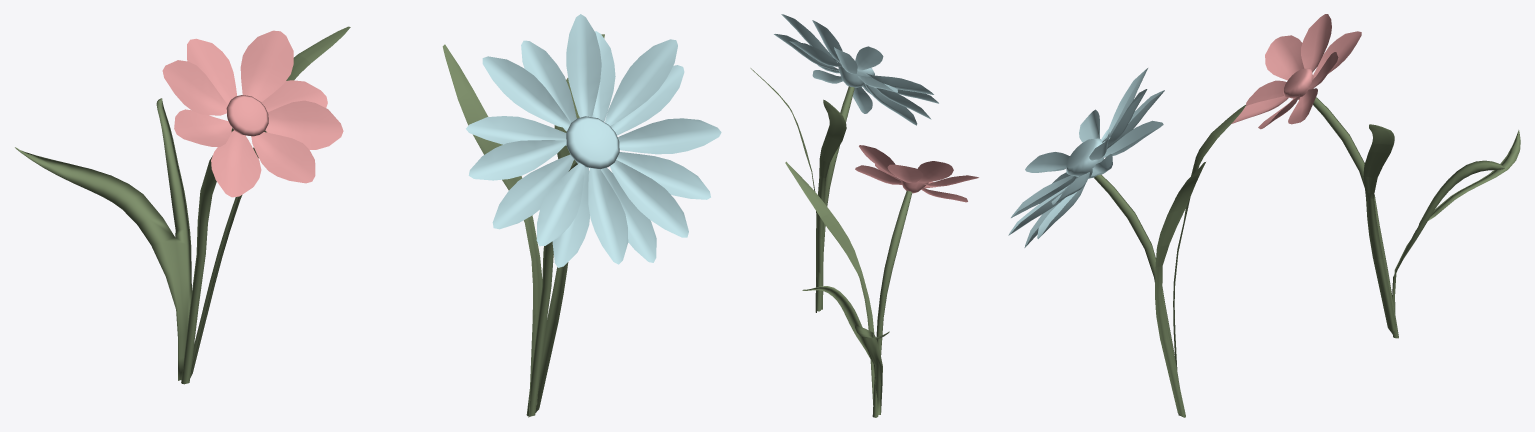
File: bloem.fbx
The picture shows the model from 3 angles, left to right: view 1: azimuth 30°, elevation 25°; view 2: azimuth 150°, elevation 25°; view 3: azimuth 270°, elevation 25°; orthographic projection. The views are drawn at different scales.
Parts seen in each view (by area): view 1: pPlane60, pPlane43; view 2: pPlane60, pPlane43; view 3: pPlane43, pPlane60.
Part boxes in pixels (x1=…): pPlane60: x1=442, y1=14, x2=721, y2=417; pPlane43: x1=15, y1=26, x2=350, y2=384; pPlane60: x1=750, y1=14, x2=938, y2=312; pPlane43: x1=785, y1=145, x2=978, y2=417; pPlane43: x1=1231, y1=14, x2=1520, y2=338; pPlane60: x1=1008, y1=68, x2=1245, y2=417.
Bounding box in the file's own units: 0.9043 × 0.8531 × 1.15.
